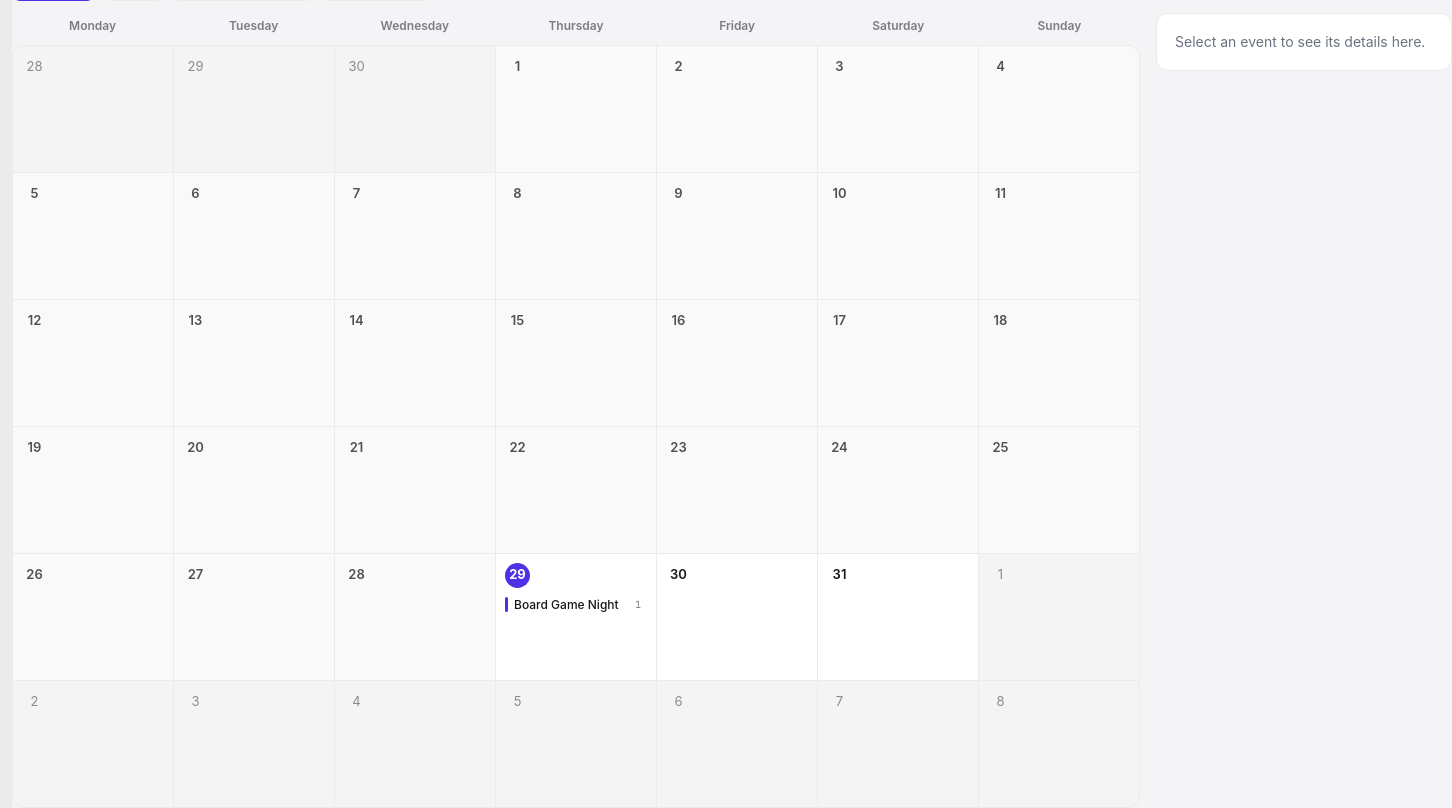
Test: Calendar › tapping a day › lists that day's events under the grid
(page scrolled)
Click the button "29 Board Game Night 1".
click(576, 616)  # box [496, 554, 656, 680]
(page scrolled)
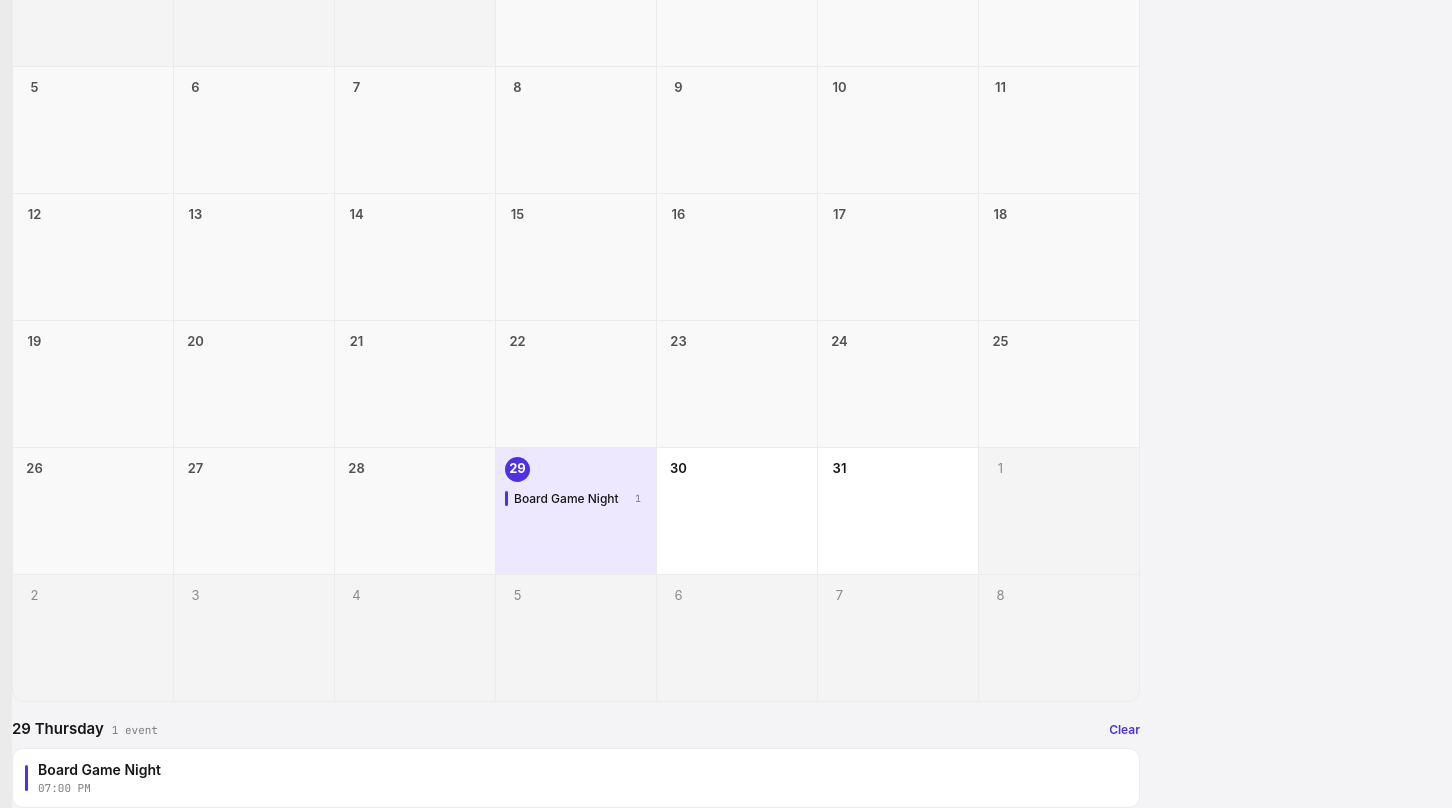
Now the text "1 event" is shown, box [112, 722, 158, 738]
